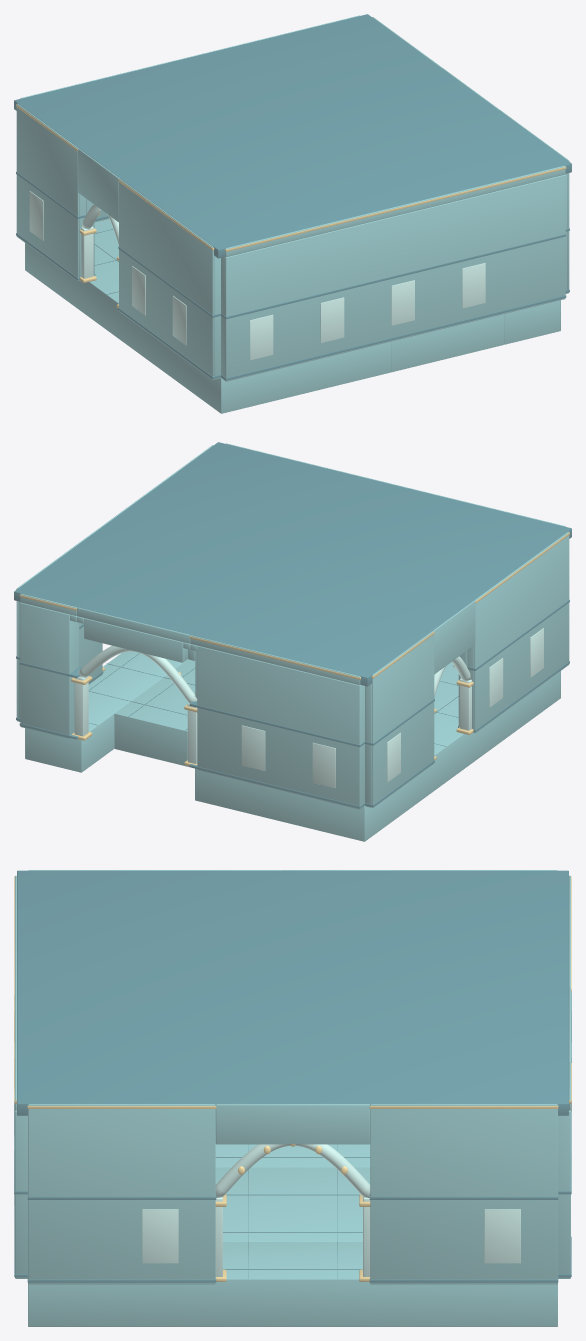
Rendered from atlantis_district_archive.glb.
The picture shows the model from 3 angles, top to bottom: view 1: azimuth 30°, elevation 25°; view 2: azimuth 150°, elevation 25°; view 3: azimuth 270°, elevation 25°; orthographic projection. The views are drawn at different scales.
Parts seen in each view (by area): view 1: atlantis_district_archive_surface; view 2: atlantis_district_archive_surface; view 3: atlantis_district_archive_surface.
Boxes of the visible parts, x1,y1,x2,y2 form: atlantis_district_archive_surface: (14, 14, 571, 413); atlantis_district_archive_surface: (14, 442, 571, 841); atlantis_district_archive_surface: (14, 870, 571, 1326).
Bounding box in the file's own units: 25.28 × 11.4 × 25.28.
